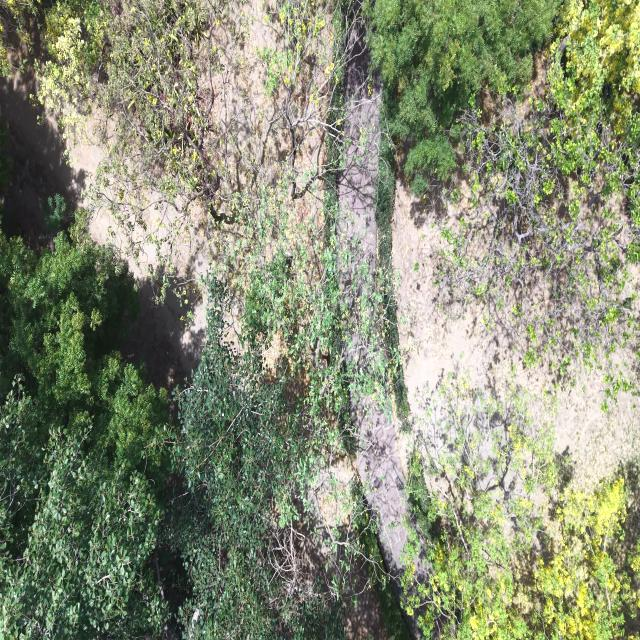DRY_AREA: (351, 181, 639, 577), (88, 1, 332, 370), (392, 174, 639, 486), (392, 181, 639, 486), (1, 67, 210, 385), (0, 71, 101, 243), (0, 69, 100, 242), (0, 72, 101, 239), (0, 71, 101, 238), (277, 511, 391, 639), (336, 19, 380, 316), (337, 29, 380, 309), (121, 279, 204, 386), (343, 558, 391, 639), (344, 588, 389, 639)
PATHWAYS: (337, 25, 380, 307)
VEGETATION_TREE: (0, 0, 639, 639), (6, 2, 385, 637), (11, 1, 393, 486), (1, 228, 343, 637), (366, 0, 639, 407), (367, 0, 639, 404), (438, 0, 639, 401), (0, 229, 171, 637), (435, 98, 639, 407), (169, 285, 343, 639), (402, 380, 639, 639), (30, 0, 233, 275), (403, 476, 639, 639), (362, 0, 557, 193), (547, 0, 639, 139)
